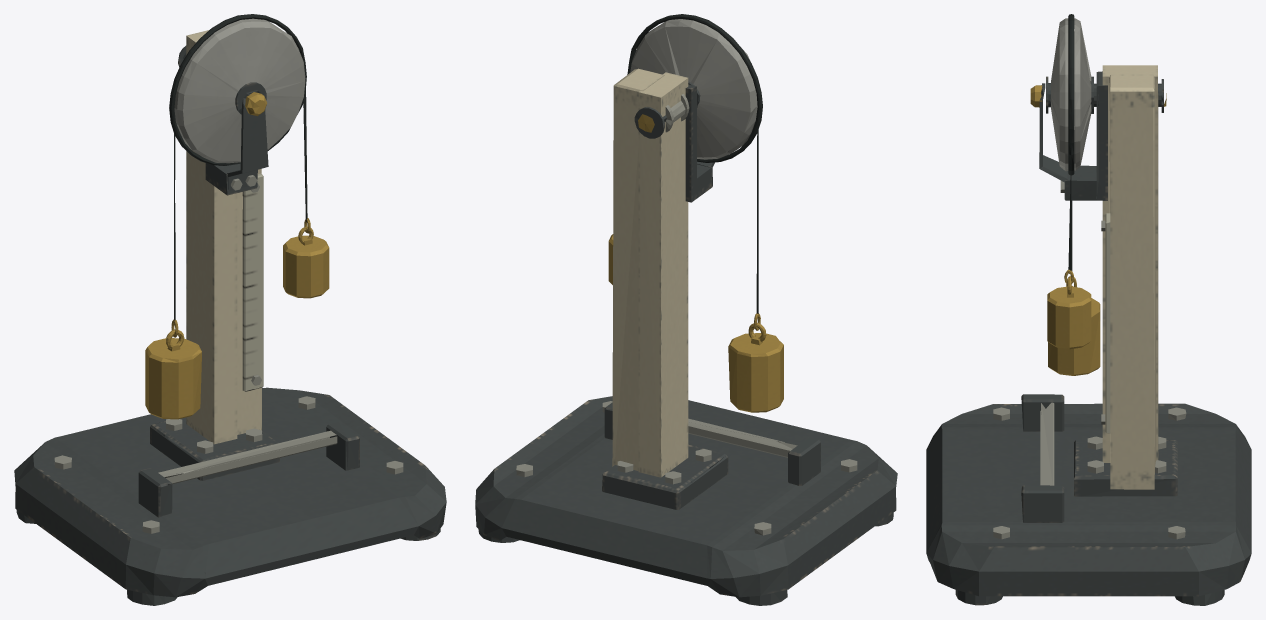
File: 26-atwood-machine.fbx
3 views of the same model, side by side, from view 1: azimuth 30°, elevation 25°; view 2: azimuth 150°, elevation 25°; view 3: azimuth 270°, elevation 25° (orthographic). The views are drawn at different scales.
Visible parts, largest first — view 1: Meshy_Base, Meshy_part_13, Meshy_PulleyDisk, Meshy_part_19, Meshy_LeftHangingMass, Meshy_part_07, Meshy_GraspRail, Meshy_RightHangingMass, Meshy_part_14, Meshy_part_34, Meshy_PulleyRim, Meshy_part_05 (+2 smaller); view 2: Meshy_Base, Meshy_part_13, Meshy_part_14, Meshy_PulleyDisk, Meshy_part_07, Meshy_LeftHangingMass, Meshy_part_32, Meshy_PulleyRim, Meshy_GraspRail, Meshy_part_05, Meshy_PulleyAxleSupport; view 3: Meshy_Base, Meshy_part_14, Meshy_PulleyDisk, Meshy_part_13, Meshy_part_07, Meshy_RightHangingMass, Meshy_part_32, Meshy_LeftHangingMass, Meshy_part_06, Meshy_part_19, Meshy_part_05, Meshy_GraspRail (+4 smaller).
Boxes of the visible parts, x1,y1,x2,y2 form: Meshy_Base: (14, 387, 446, 597); Meshy_part_13: (186, 30, 237, 444); Meshy_PulleyDisk: (174, 18, 305, 163); Meshy_part_19: (242, 173, 263, 391); Meshy_LeftHangingMass: (145, 338, 201, 419); Meshy_part_07: (150, 417, 279, 480); Meshy_GraspRail: (158, 430, 337, 483); Meshy_RightHangingMass: (283, 235, 329, 298); Meshy_part_14: (237, 169, 261, 434); Meshy_part_34: (227, 90, 268, 191); Meshy_PulleyRim: (169, 14, 306, 165); Meshy_part_05: (138, 468, 172, 517); Meshy_Base: (475, 396, 897, 597); Meshy_part_13: (638, 72, 688, 477); Meshy_part_14: (612, 68, 664, 470); Meshy_PulleyDisk: (630, 19, 757, 159); Meshy_part_07: (602, 444, 728, 509); Meshy_LeftHangingMass: (728, 333, 783, 412); Meshy_part_32: (685, 84, 712, 202); Meshy_PulleyRim: (627, 14, 762, 162); Meshy_GraspRail: (688, 418, 797, 457); Meshy_part_05: (788, 437, 820, 485); Meshy_PulleyAxleSupport: (634, 81, 700, 138); Meshy_Base: (926, 403, 1251, 596); Meshy_part_14: (1109, 74, 1156, 489); Meshy_PulleyDisk: (1050, 18, 1091, 171); Meshy_part_13: (1102, 65, 1158, 462); Meshy_part_07: (1074, 440, 1177, 496); Meshy_RightHangingMass: (1047, 286, 1091, 349); Meshy_part_32: (1065, 71, 1107, 200); Meshy_LeftHangingMass: (1048, 298, 1100, 375); Meshy_part_06: (1021, 485, 1064, 522); Meshy_part_19: (1105, 213, 1110, 433); Meshy_part_05: (1021, 394, 1064, 431); Meshy_GraspRail: (1040, 402, 1054, 485).
Size of the model in its own units: 0.5212 by 0.8 by 0.4621.
Materials: 7 (7 with a texture image).
